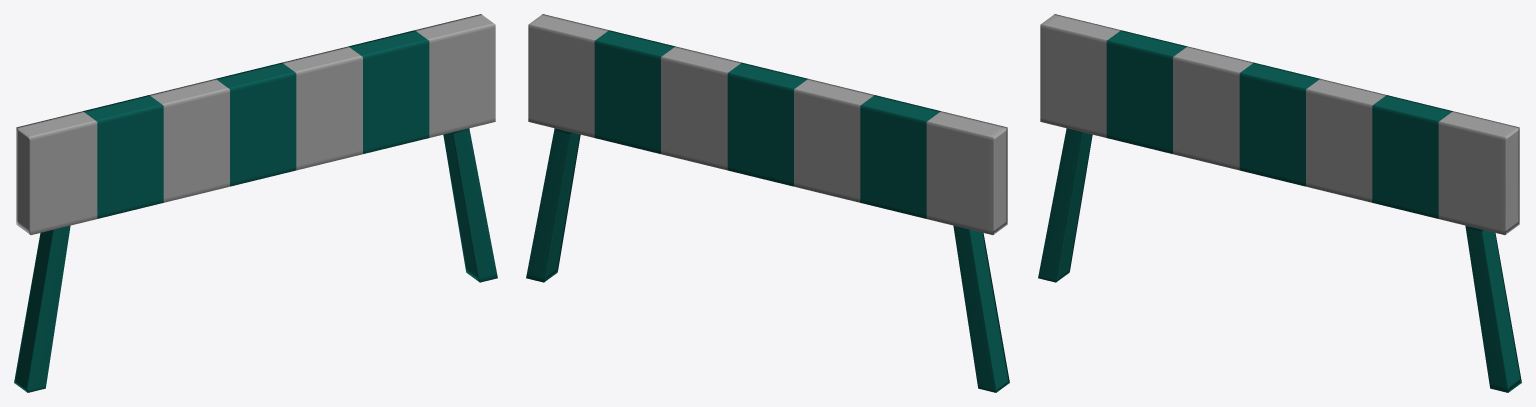
The model's file is Obstacle_high.fbx.
3 renders of one model, left to right at view 1: azimuth 30°, elevation 25°; view 2: azimuth 150°, elevation 25°; view 3: azimuth 330°, elevation 25°, orthographic.
Visible parts, largest first — view 1: Obstacle1; view 2: Obstacle1; view 3: Obstacle1.
Part boxes in pixels (x1,y1,x2,y2): Obstacle1: [14, 14, 497, 392]; Obstacle1: [526, 14, 1009, 392]; Obstacle1: [1038, 14, 1521, 392].
Bounding box in the file's own units: 506 × 262 × 26.99.
